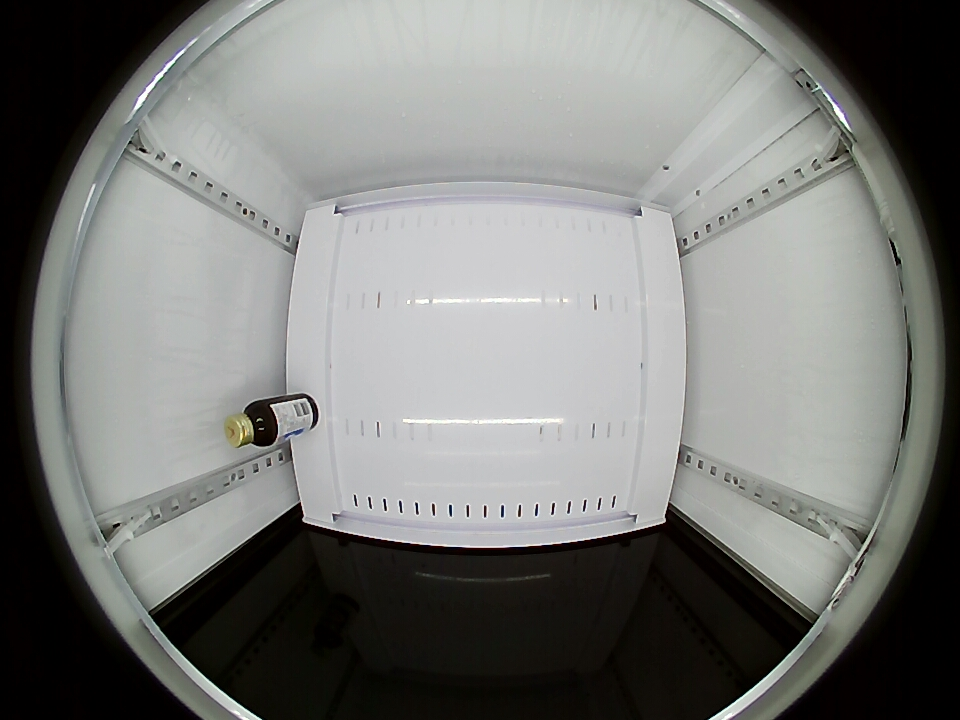libaojian: (224, 400, 277, 449)
